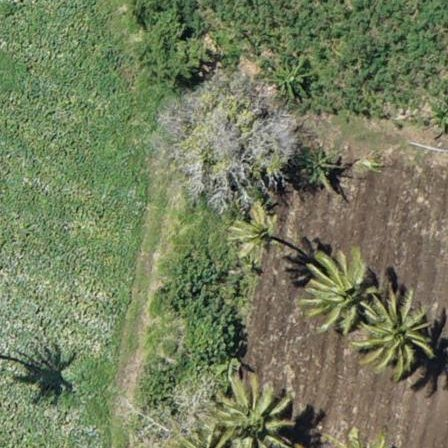palm_tree: (217, 376, 291, 448), (359, 297, 428, 370), (311, 258, 379, 330), (229, 204, 287, 265)
